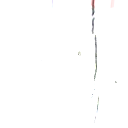crackTip: (86, 1, 108, 126)
